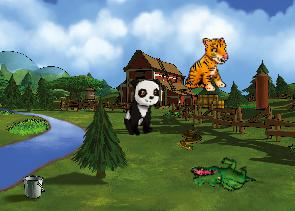crocodile: (188, 149, 256, 202)
panda: (122, 75, 162, 139)
tiger: (183, 37, 230, 93)
